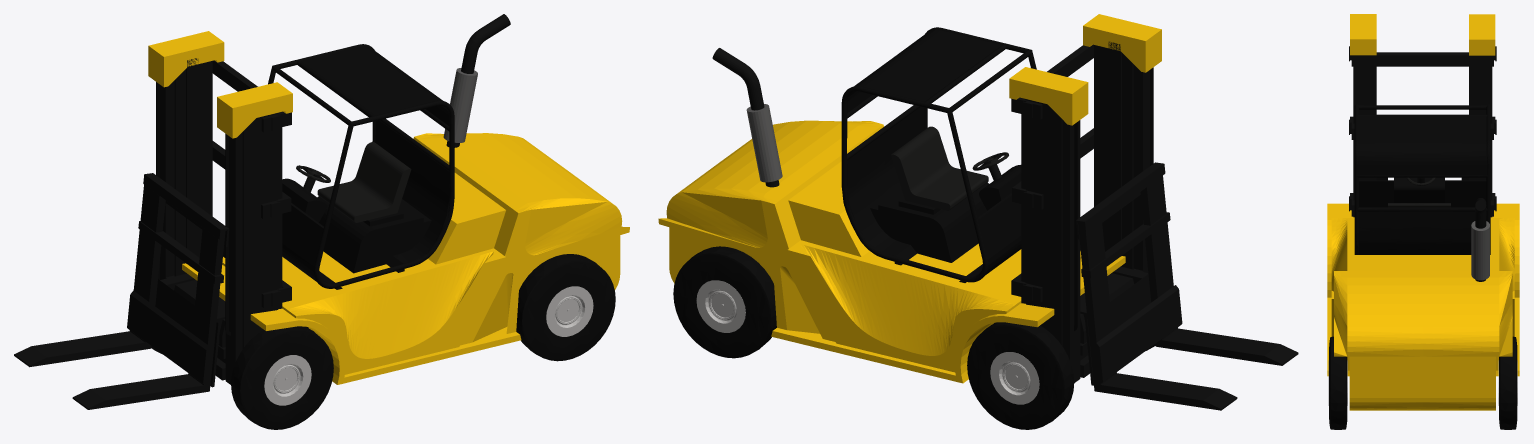
Rendered from Truck.glb.
3 renders of one model, left to right at view 1: azimuth 30°, elevation 25°; view 2: azimuth 150°, elevation 25°; view 3: azimuth 270°, elevation 25°, orthographic. The views are drawn at different scales.
Bounding box in the file's own units: 4.7 × 2.76 × 1.74.
